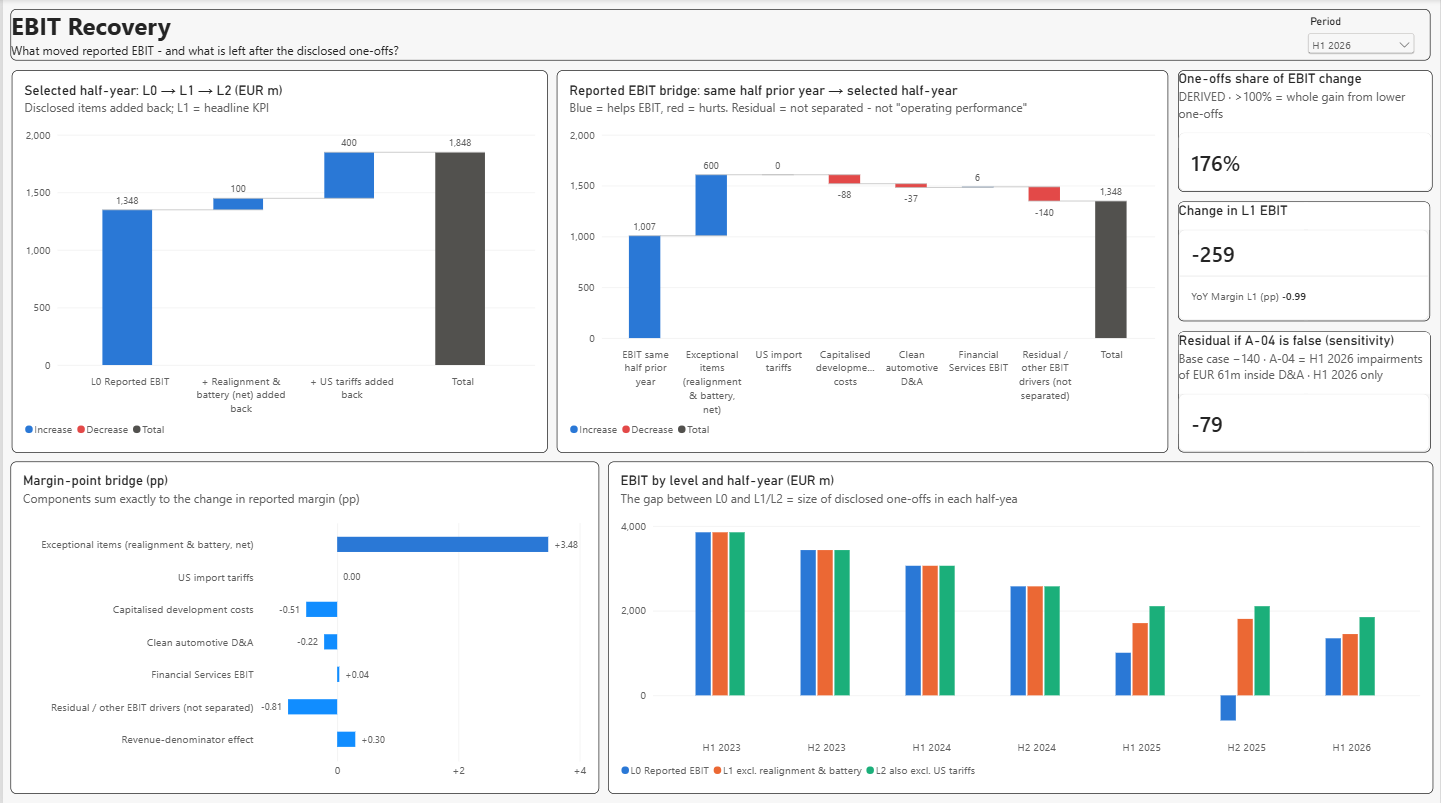

The page's visual inventory and layout, read from the dashboard file:
{"tool":"powerbi","page":{"name":"2 EBIT Recovery","canvas":[1920,1080],"ordinal":1},"visuals":[{"type":"textbox","box":[10,13.4,1896.9,68.5],"z":0},{"type":"waterfallChart","title":"Selected half-year: L0 → L1 → L2 (EUR m)","fields":{"Category":["DimLevelStep.lstep_name"],"Y":["FactHalfYear.Level Bridge Value"]},"box":[11.7,95.2,716.3,510.9],"z":1000},{"type":"waterfallChart","title":"Reported EBIT bridge: same half prior year → selected half-year","fields":{"Category":["DimBridgeStep.step_name"],"Y":["FactBridgeYoY.Bridge EUR m"]},"box":[739.7,95.2,816.5,510.9],"z":2000},{"type":"clusteredBarChart","title":"Margin-point bridge (pp)","fields":{"Category":["DimBridgeStep.step_name"],"Y":["FactBridgeYoY.Bridge pp"]},"box":[10,617.8,786.5,444.2],"z":3000},{"type":"cardVisual","title":"One-offs share of EBIT change","fields":{"Data":["FactBridgeYoY.One-offs Share of EBIT Change"]},"box":[1569.6,95.2,340.4,162.7],"z":4000},{"type":"cardVisual","title":"Change in L1 EBIT","fields":{"Data":["FactHalfYear.YoY EBIT L1"]},"box":[1569.6,270.5,336.4,160.2],"z":5000},{"type":"cardVisual","title":"Residual if A-04 is false (sensitivity)","fields":{"Data":["FactBridgeYoY.Bridge Residual alt A-04"]},"box":[1569.6,444.2,337.3,162],"z":6000},{"type":"clusteredColumnChart","title":"EBIT by level and half-year (EUR m)","fields":{"Category":["DimPeriod.period_label"],"Series":["DimLevel.level_name"],"Y":["FactHalfYear.EBIT by Level"]},"box":[808.2,617.8,1102,444.2],"z":7000},{"type":"slicer","fields":{"Values":["DimPeriod.period_label"]},"box":[1738.2,21.7,151.9,55.1],"z":8000}]}

Visuals, with their boxes in screenshot pixels (x1, y1, x2, y2), scaled from the page's 1920x1080 canvas onto the 1441x803 screenshot:
textbox: {"x1": 8, "y1": 10, "x2": 1431, "y2": 61}
"Selected half-year: L0 → L1 → L2 (EUR m)" waterfallChart: {"x1": 9, "y1": 71, "x2": 546, "y2": 451}
"Reported EBIT bridge: same half prior year → selected half-year" waterfallChart: {"x1": 555, "y1": 71, "x2": 1168, "y2": 451}
"Margin-point bridge (pp)" clusteredBarChart: {"x1": 8, "y1": 459, "x2": 598, "y2": 790}
"One-offs share of EBIT change" cardVisual: {"x1": 1178, "y1": 71, "x2": 1433, "y2": 192}
"Change in L1 EBIT" cardVisual: {"x1": 1178, "y1": 201, "x2": 1430, "y2": 320}
"Residual if A-04 is false (sensitivity)" cardVisual: {"x1": 1178, "y1": 330, "x2": 1431, "y2": 451}
"EBIT by level and half-year (EUR m)" clusteredColumnChart: {"x1": 607, "y1": 459, "x2": 1434, "y2": 790}
slicer - DimPeriod.period_label: {"x1": 1305, "y1": 16, "x2": 1419, "y2": 57}
